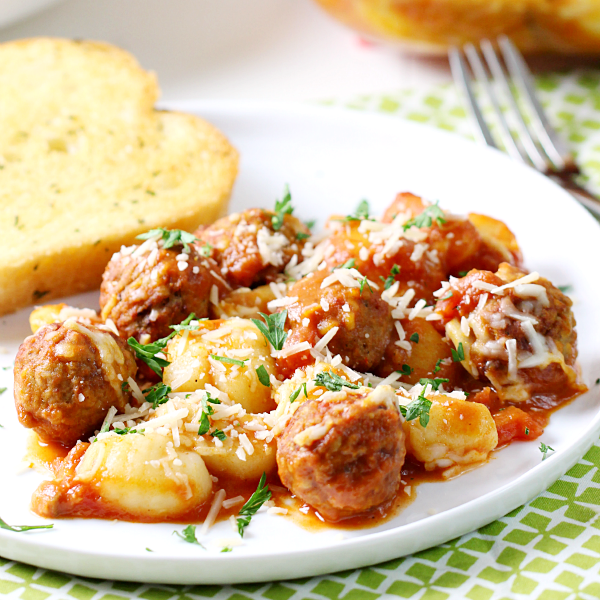meatballs: (440, 255, 575, 383), (283, 384, 400, 507), (18, 311, 127, 431)
slice of bread: (1, 48, 177, 237)
